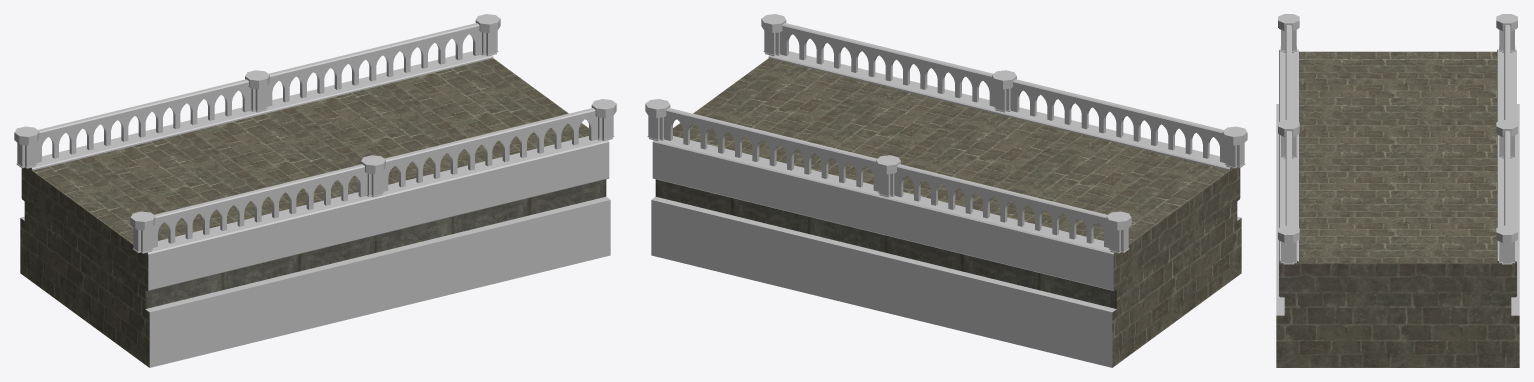
File: bridge_deck_01.fbx
3 renders of one model, left to right at view 1: azimuth 30°, elevation 25°; view 2: azimuth 150°, elevation 25°; view 3: azimuth 270°, elevation 25°, orthographic. The views are drawn at different scales.
Visible parts, largest first — view 1: bridge_deck_01; view 2: bridge_deck_01; view 3: bridge_deck_01.
Boxes of the visible parts, x1=… form: bridge_deck_01: x1=14, y1=14, x2=616, y2=367; bridge_deck_01: x1=645, y1=14, x2=1247, y2=367; bridge_deck_01: x1=1276, y1=14, x2=1519, y2=367.
Bounding box in the file's own units: 1670 × 485 × 777.
